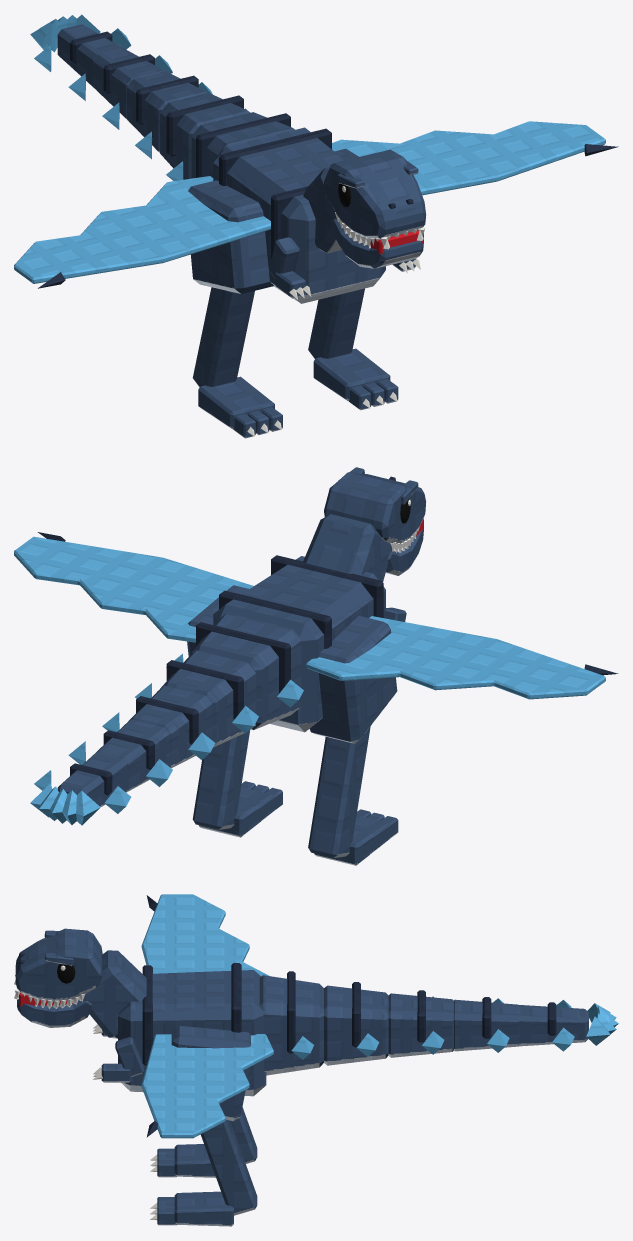
The model's file is 28_Archaeopteryx.glb.
3 views of the same model, one above another, from view 1: azimuth 30°, elevation 25°; view 2: azimuth 150°, elevation 25°; view 3: azimuth 270°, elevation 25° (orthographic). The views are drawn at different scales.
Visible parts, largest first — view 1: 28_Archaeopteryx; view 2: 28_Archaeopteryx; view 3: 28_Archaeopteryx.
Part boxes in pixels (x1,y1,x2,y2): 28_Archaeopteryx: (14,14,618,438); 28_Archaeopteryx: (14,467,618,865); 28_Archaeopteryx: (14,894,618,1226).
Bounding box in the file's own units: 3.88 × 1.89 × 4.09.
1 material, 1 textured.
